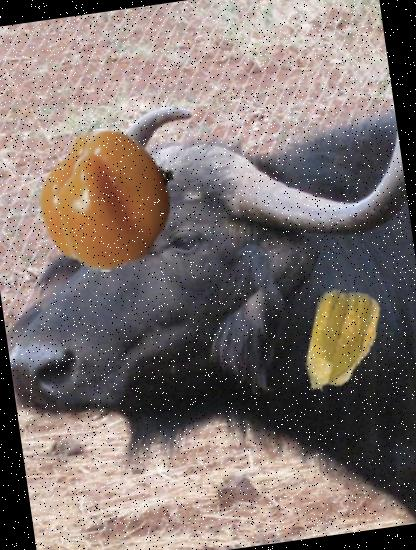Pepper: (26, 118, 189, 282)
Physalis: (282, 282, 404, 404)
